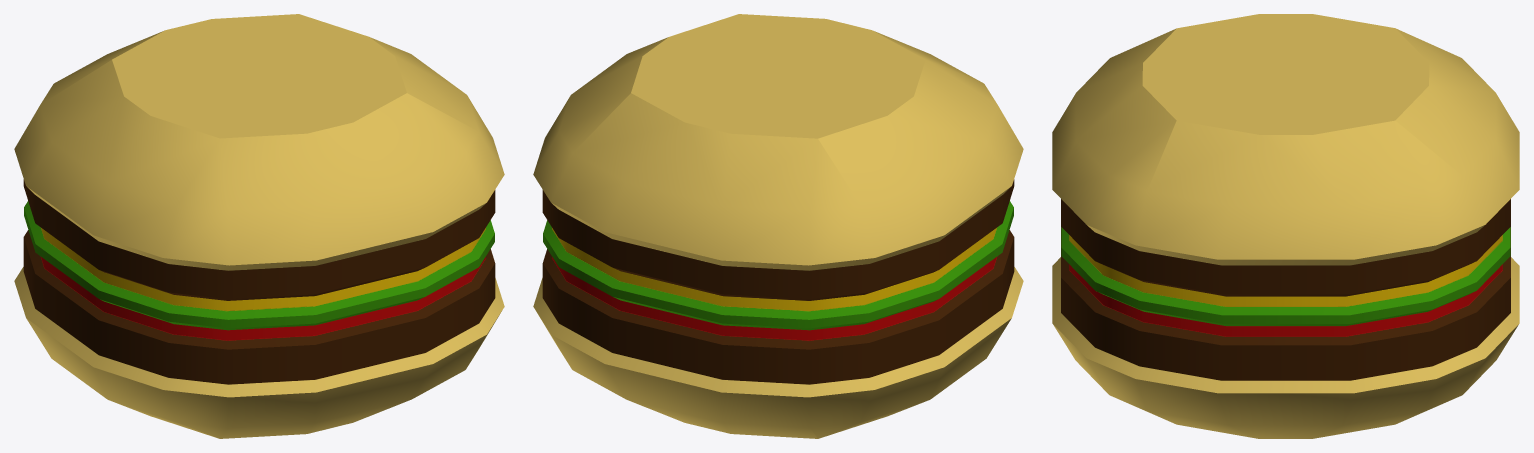
File: Borger.fbx
3 renders of one model, left to right at view 1: azimuth 30°, elevation 25°; view 2: azimuth 150°, elevation 25°; view 3: azimuth 270°, elevation 25°, orthographic.
Parts seen in each view (by area): view 1: Borger; view 2: Borger; view 3: Borger.
Part boxes in pixels (x1=…): Borger: x1=14, y1=14, x2=504, y2=438; Borger: x1=533, y1=14, x2=1023, y2=438; Borger: x1=1052, y1=14, x2=1519, y2=438.
Bounding box in the file's own units: 0.7317 × 0.5254 × 0.7317.
Materials: 1 (1 with a texture image).
